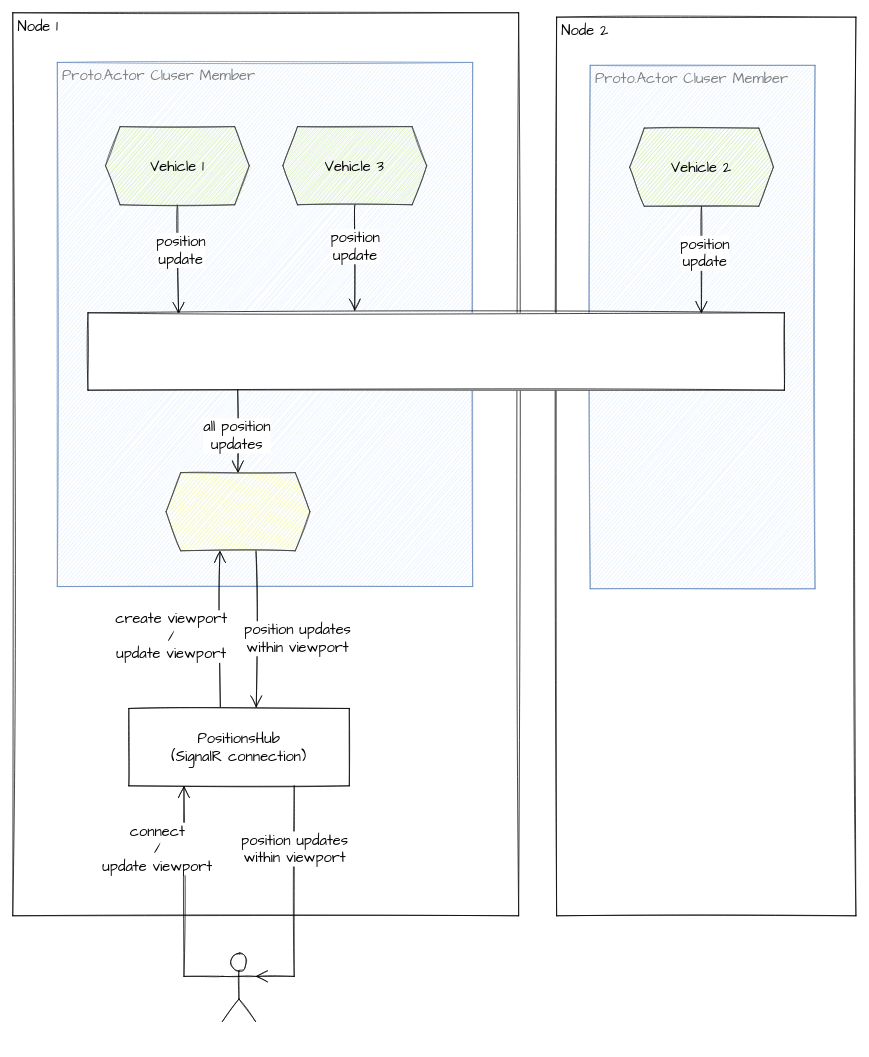
The diagram is 869 pixels wide and 1057 high, and some of its shapes have lost their labels. The shapes that lost their labels are listed below. From the top down, each one's centre as x and y in pixels, then its label:
At (435,351): "Proto.Actor's EventStream".
At (237,511): "Viewport".
At (239,987): "User".
